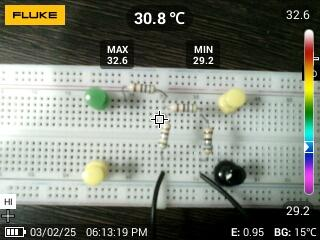resistor: (124, 80, 161, 96), (157, 118, 172, 152), (167, 100, 200, 115), (202, 123, 215, 159)
